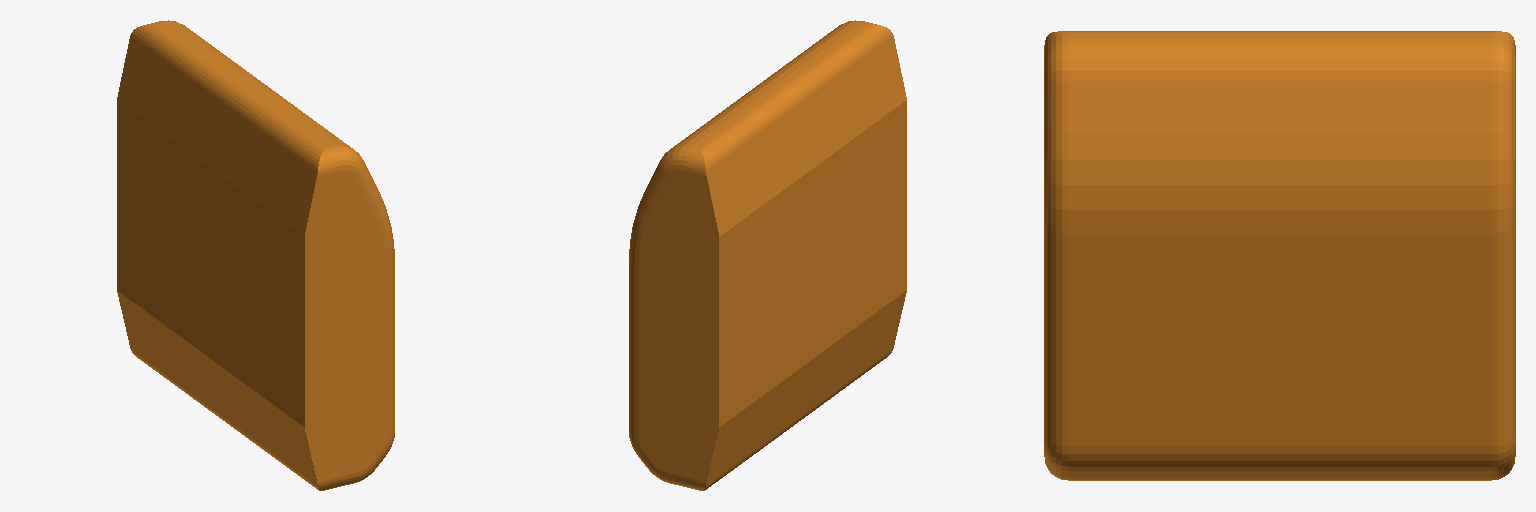
The robot description file, URDF, robot "cb_usb_jaw_06_l":
<?xml version="1.0"?>
<!-- ContactBench usb_jaw_06_l. Generated by FoundationTouch tools/contactbench/usb_tasks.py (A12) -->
<robot name="cb_usb_jaw_06_l">
  <material name="c"><color rgba="0.85 0.55 0.2 1.0"/></material>
  <link name="object">
    <visual><origin xyz="0 0 0" rpy="0 0 0"/><geometry><mesh filename="usb_jaw_06_l.obj" scale="1 1 1"/></geometry><material name="c"/></visual>
    <collision><origin xyz="0 0 0" rpy="0 0 0"/><geometry><mesh filename="coll_00.obj" scale="1 1 1"/></geometry></collision>
    <inertial><mass value="0.030000"/><origin xyz="0 0 0" rpy="0 0 0"/><inertia ixx="4.579394e-07" ixy="3.096487e-25" ixz="5.690179e-09" iyy="2.301005e-07" iyz="2.286636e-24" izz="2.671955e-07"/></inertial>
  </link>
</robot>

--- Render facts (derived) ---
3 views of the same robot in one strip: view 1: azimuth 30°, elevation 25°; view 2: azimuth 150°, elevation 25°; view 3: azimuth 270°, elevation 25° (orthographic).
Robot: cb_usb_jaw_06_l — 1 links, 0 joints (none); root link object; default pose: all joints at 0.
Links seen in each view (by area): view 1: object; view 2: object; view 3: object.
Boxes of the visible links, x1,y1,x2,y2 form: object: [117, 20, 394, 490]; object: [629, 20, 906, 490]; object: [1044, 31, 1515, 480].
Bounding box of the posed robot: 0.003 × 0.01 × 0.01 m (x, y, z).
1 mesh visuals loaded from 1 distinct referenced files (1 OBJ).
